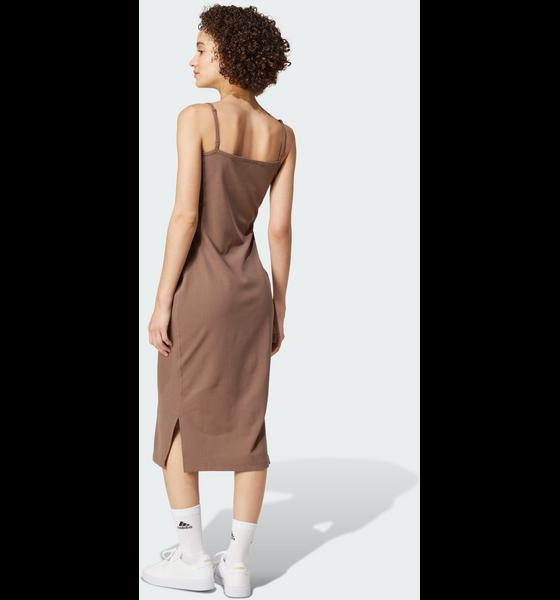dress: (149, 99, 292, 476)
